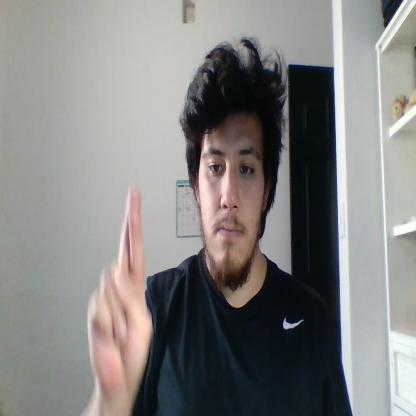R: (87, 187, 153, 402)
